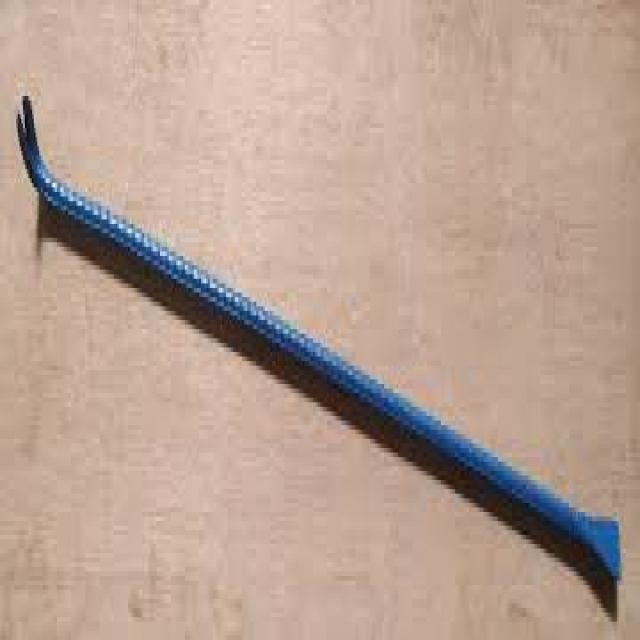Linggis: (14, 85, 626, 592)
